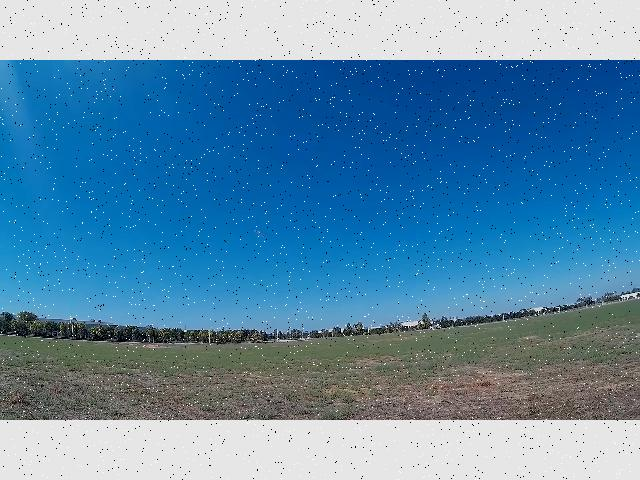Anti-Drone: (255, 229, 265, 237)
